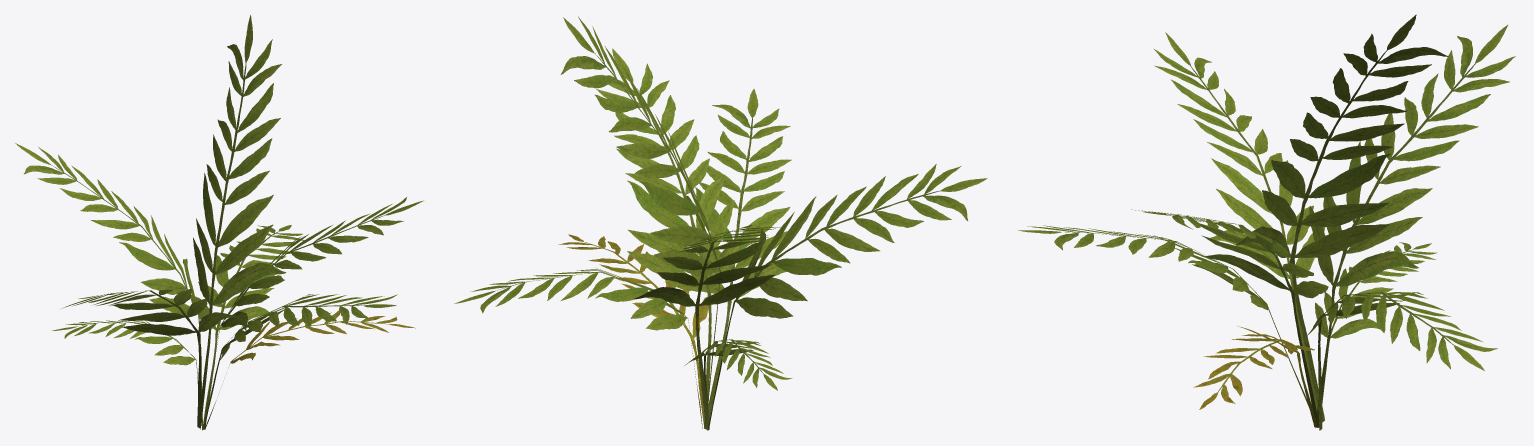
The model's file is SM_Plant_01.fbx.
3 renders of one model, left to right at view 1: azimuth 30°, elevation 25°; view 2: azimuth 150°, elevation 25°; view 3: azimuth 270°, elevation 25°, orthographic. The views are drawn at different scales.
Parts seen in each view (by area): view 1: SM_Plant_01_LOD0; view 2: SM_Plant_01_LOD0; view 3: SM_Plant_01_LOD0.
Boxes of the visible parts, x1,y1,x2,y2 form: SM_Plant_01_LOD0: (15, 15, 423, 430); SM_Plant_01_LOD0: (454, 16, 987, 430); SM_Plant_01_LOD0: (1018, 14, 1515, 430).
Size of the model in its own units: 101 by 94.83 by 97.7.
